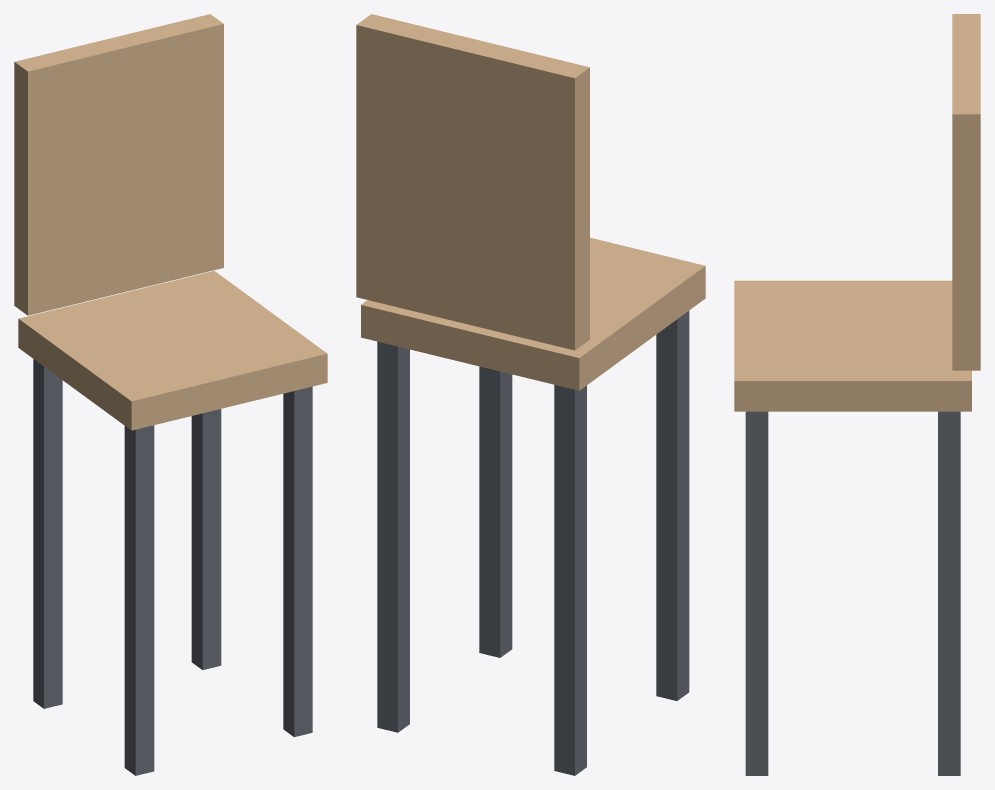
Rendered from barova-zidle.glb.
The picture shows the model from 3 angles, left to right: view 1: azimuth 30°, elevation 25°; view 2: azimuth 150°, elevation 25°; view 3: azimuth 270°, elevation 25°; orthographic projection. The views are drawn at different scales.
Parts seen in each view (by area): view 1: Barova zidle; view 2: Barova zidle; view 3: Barova zidle.
Part boxes in pixels (box(x1,y1,x2,y2)): Barova zidle: box(14, 14, 327, 775); Barova zidle: box(356, 14, 705, 775); Barova zidle: box(734, 14, 980, 775).
Bounding box in the file's own units: 0.42 × 1.3 × 0.435.
